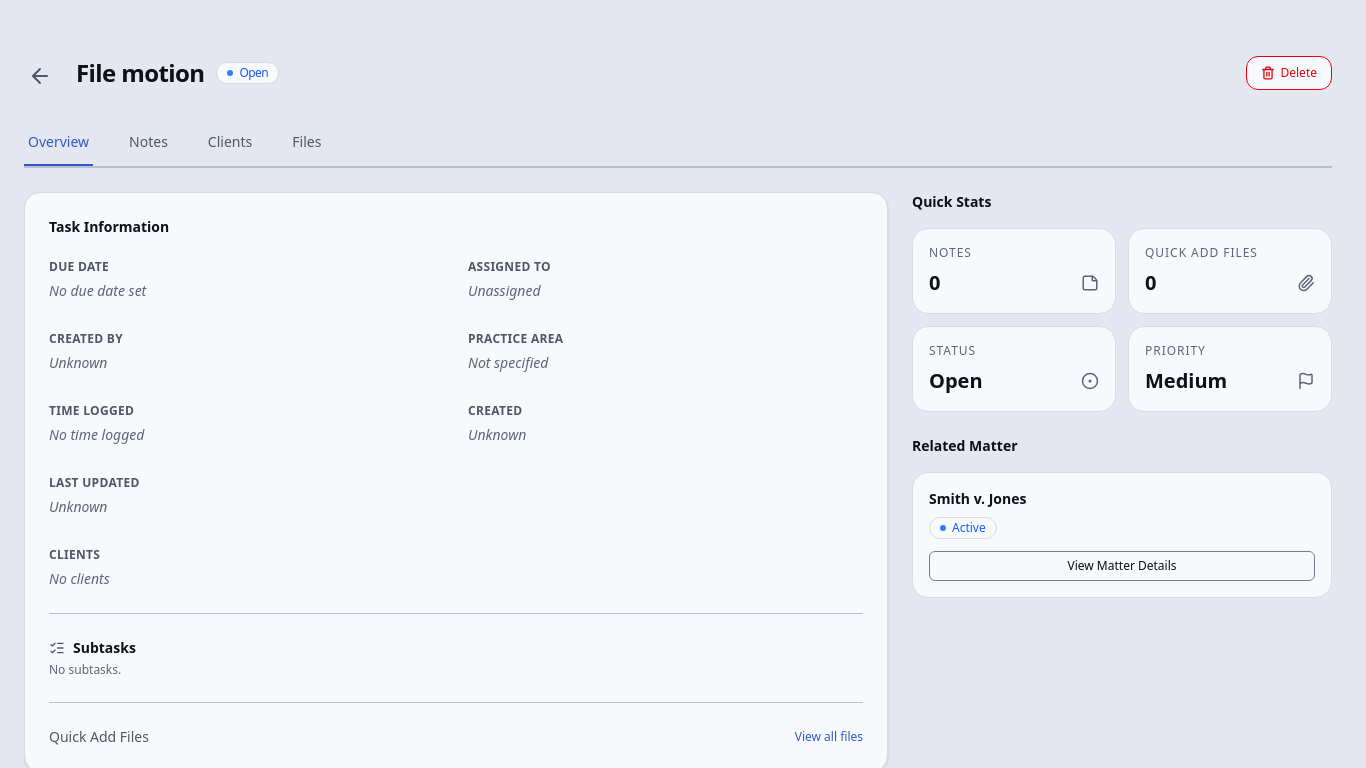
Test: retracting a note on a task › offers no Retract to a member who can delete tasks but not update them
Expected: the heading "File motion Open" is shown, [76,56,279,89]
What coordinates should you click on to do the following:
click the button "Notes"
I would click on:
 (148, 143)
Its box is [125,120,172,166].
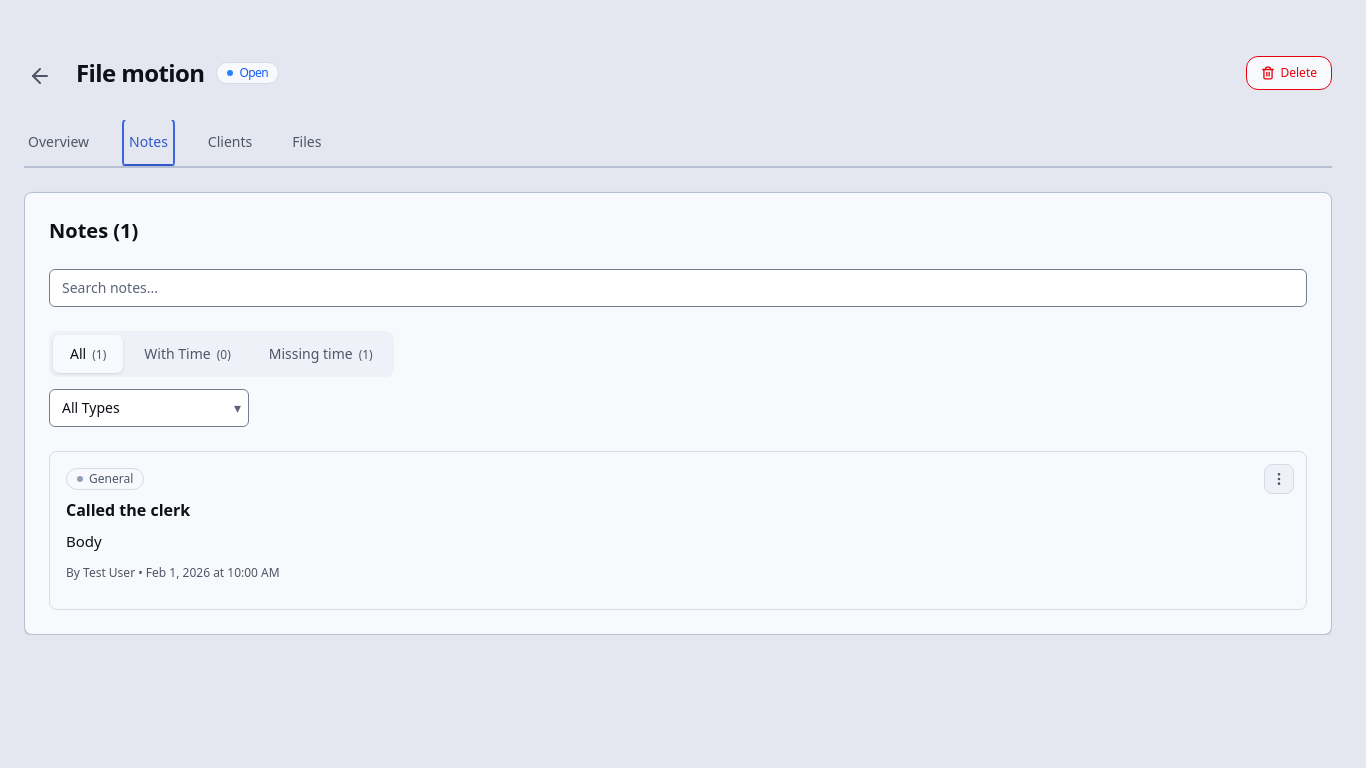
Expected: the heading "Called the clerk" is shown, [66,499,190,521]
